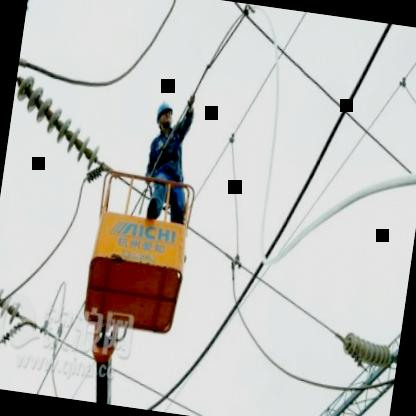helmet: (150, 96, 177, 136)
